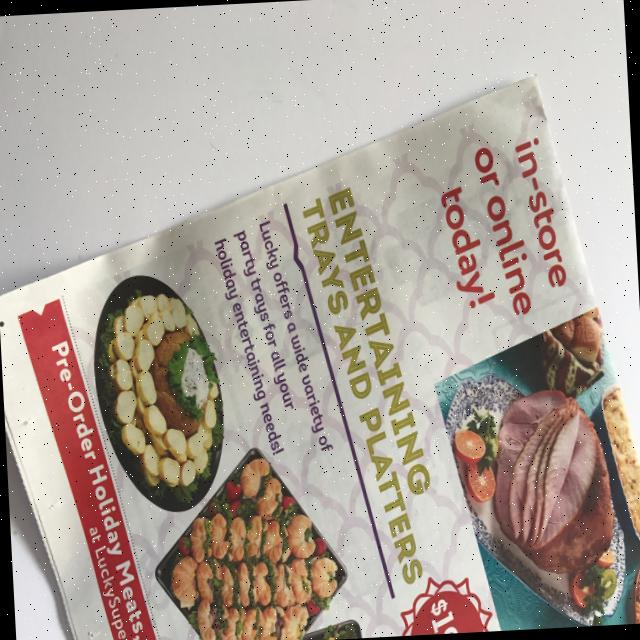paper: (0, 70, 623, 640)
